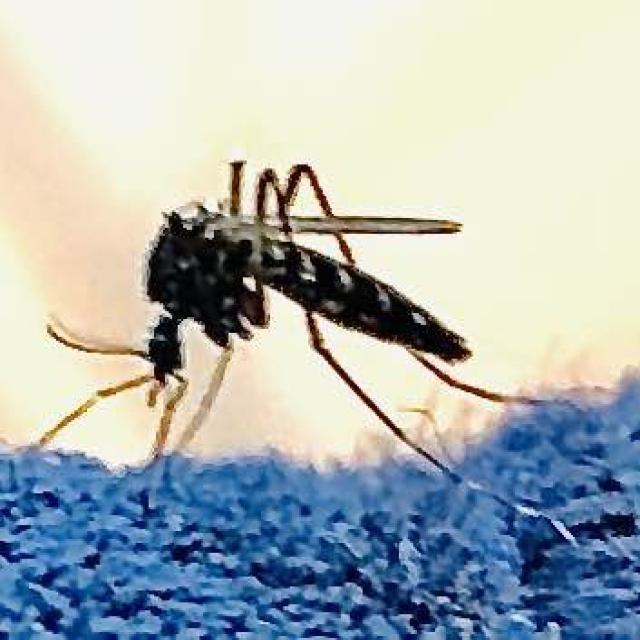albopictus: (45, 111, 555, 545)
